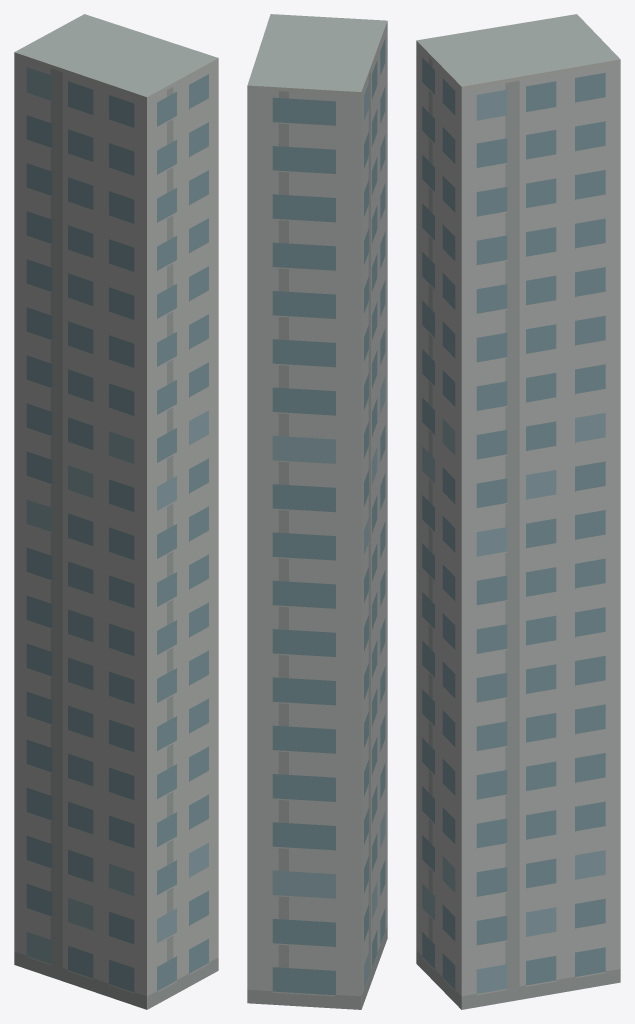
File: survey-upis-32788674.glb
3 renders of one model, left to right at view 1: azimuth 30°, elevation 25°; view 2: azimuth 150°, elevation 25°; view 3: azimuth 270°, elevation 25°, orthographic.
Visible parts, largest first — view 1: survey-upis-32788674.tmp; view 2: survey-upis-32788674.tmp; view 3: survey-upis-32788674.tmp.
Part boxes in pixels (x1,y1,x2,y2): survey-upis-32788674.tmp: (14, 14, 218, 1009); survey-upis-32788674.tmp: (247, 14, 387, 1009); survey-upis-32788674.tmp: (416, 14, 620, 1009).
Bounding box in the file's own units: 9.81 × 57.95 × 11.63.
